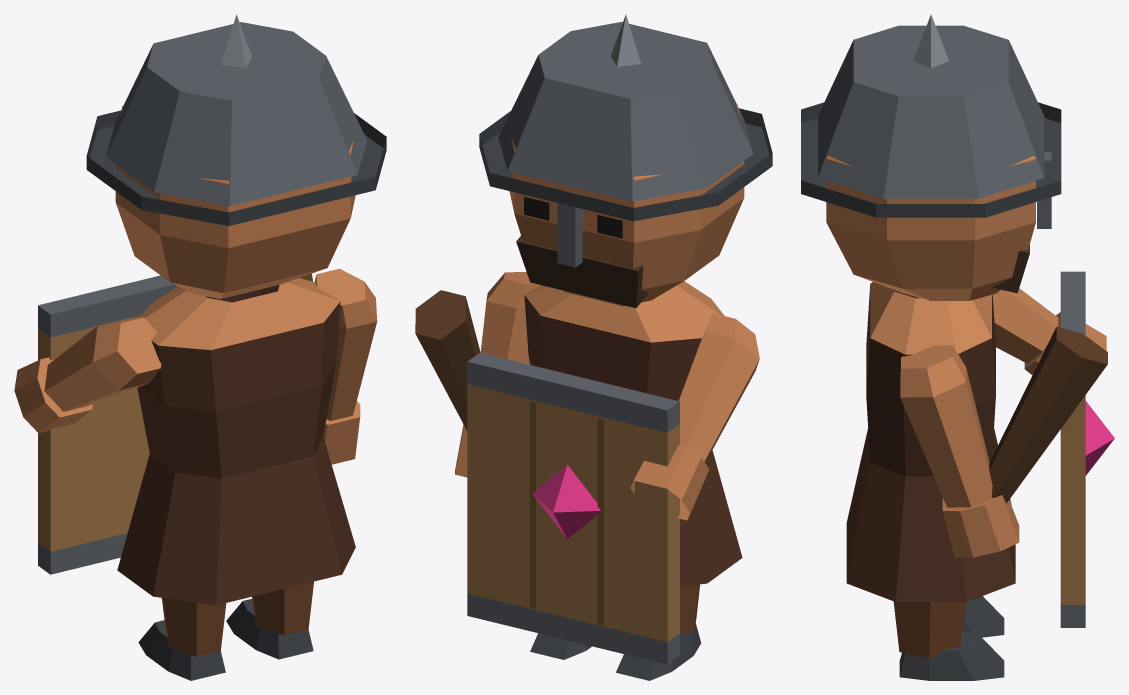
The model's file is EN_ShieldThug.fbx.
3 renders of one model, left to right at view 1: azimuth 30°, elevation 25°; view 2: azimuth 150°, elevation 25°; view 3: azimuth 270°, elevation 25°, orthographic. The views are drawn at different scales.
Parts seen in each view (by area): view 1: Body, Head, ArmL, ArmR, LegL, LegR; view 2: ArmL, Head, Body, ArmR, LegL, LegR; view 3: Head, Body, ArmR, ArmL, LegR, LegL.
Part boxes in pixels (x1=…): Body: x1=117, y1=278, x2=355, y2=605; Head: x1=86, y1=14, x2=386, y2=298; ArmL: x1=14, y1=275, x2=177, y2=574; ArmR: x1=300, y1=268, x2=377, y2=464; LegL: x1=138, y1=598, x2=226, y2=680; LegR: x1=226, y1=581, x2=313, y2=659; ArmL: x1=467, y1=313, x2=759, y2=664; Head: x1=479, y1=14, x2=772, y2=307; Body: x1=524, y1=281, x2=742, y2=587; ArmR: x1=415, y1=272, x2=540, y2=477; LegL: x1=616, y1=584, x2=701, y2=680; LegR: x1=530, y1=633, x2=591, y2=659; Head: x1=801, y1=14, x2=1061, y2=300; Body: x1=846, y1=282, x2=1015, y2=601; ArmR: x1=900, y1=326, x2=1107, y2=557; ArmL: x1=992, y1=271, x2=1114, y2=627; LegR: x1=893, y1=601, x2=1004, y2=680; LegL: x1=962, y1=596, x2=1004, y2=637.
Bounding box in the file's own units: 0.6882 × 0.6733 × 1.5.
